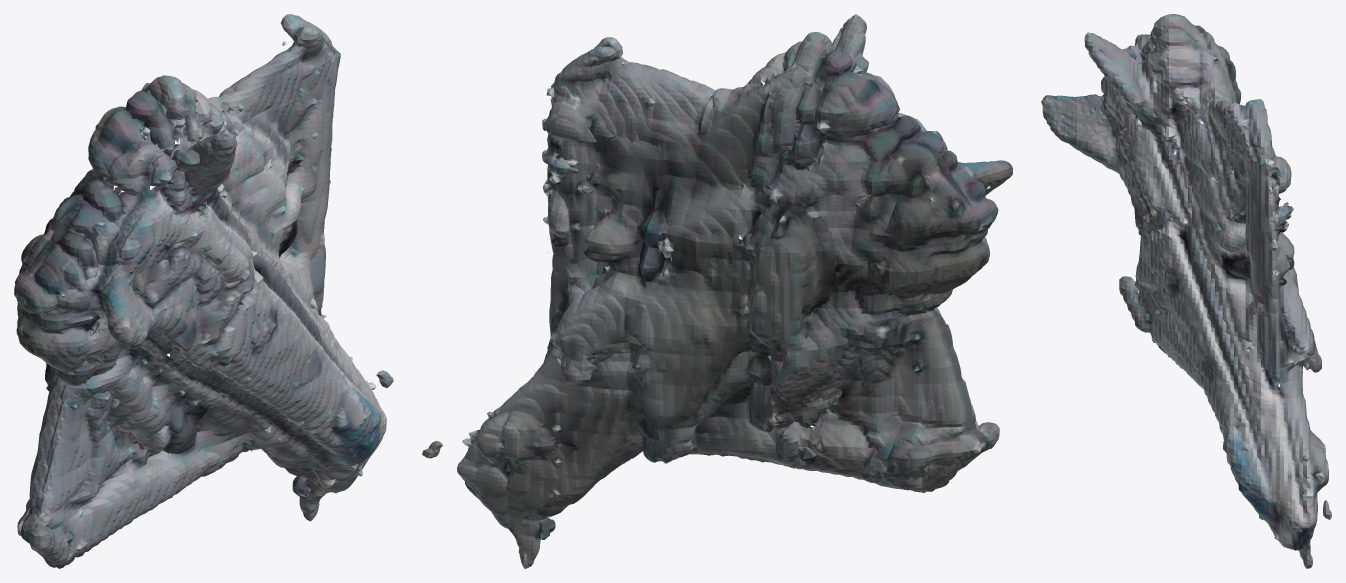
File: e9b8a0ba-65cb-4002-ac99-8e5e6faf8c4a.glb
3 views of the same model, side by side, from view 1: azimuth 30°, elevation 25°; view 2: azimuth 150°, elevation 25°; view 3: azimuth 270°, elevation 25° (orthographic). The views are drawn at different scales.
Visible parts, largest first — view 1: world; view 2: world; view 3: world.
Part boxes in pixels (x1,y1,x2,y2): world: (14, 14, 393, 568); world: (422, 14, 1012, 568); world: (1041, 14, 1331, 568).
Bounding box in the file's own units: 0.828 × 0.9069 × 0.516.
